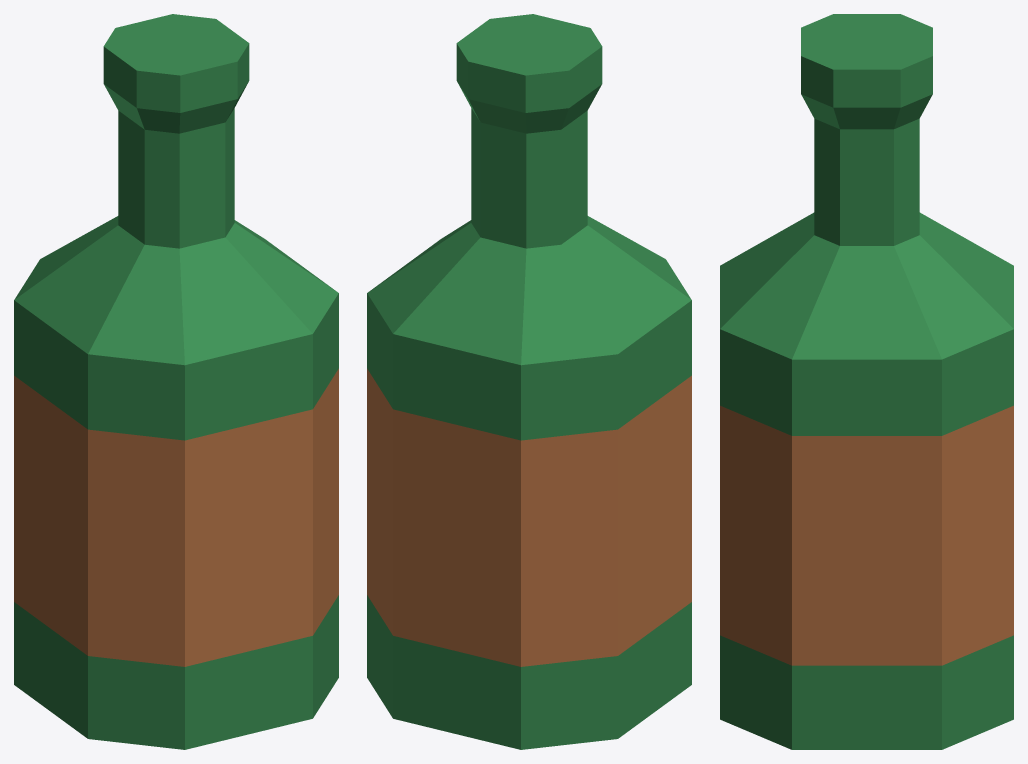
File: bottle.fbx
The picture shows the model from 3 angles, left to right: view 1: azimuth 30°, elevation 25°; view 2: azimuth 150°, elevation 25°; view 3: azimuth 270°, elevation 25°; orthographic projection.
Visible parts, largest first — view 1: bottle; view 2: bottle; view 3: bottle.
Boxes of the visible parts, x1=… form: bottle: x1=14, y1=14, x2=338, y2=749; bottle: x1=367, y1=14, x2=691, y2=749; bottle: x1=720, y1=14, x2=1013, y2=749.
Size of the model in its own units: 1.74 by 4.22 by 1.74.
